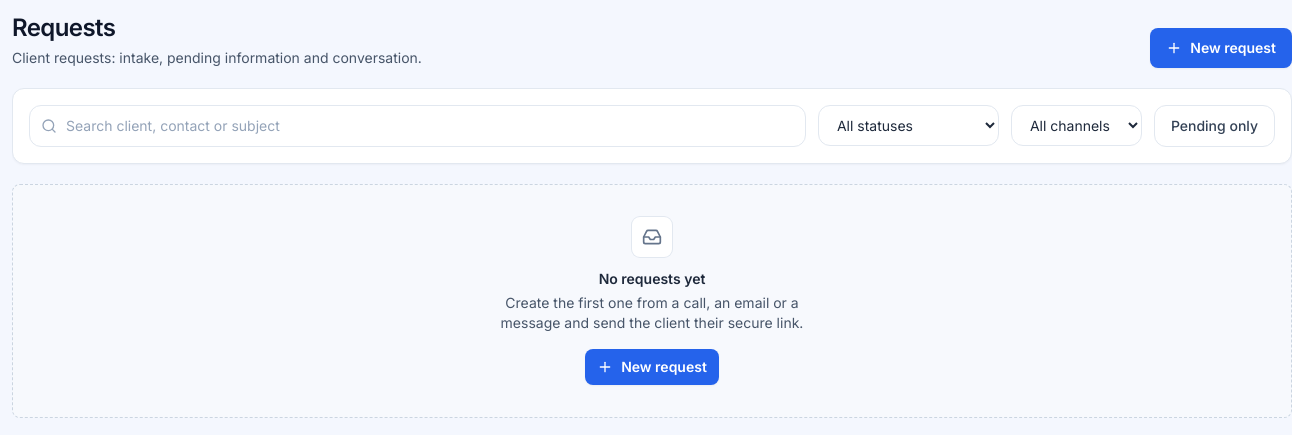
Test case: <SolicitudesInbox /> en inglés › estado vacío y vacío con filtros en inglés
The width and height of the screenshot is (1292, 435).
Expected: the text "No requests yet" is shown, [599,269,705,289]
Expected: the text "Create the first one from a call" is shown, [501,294,803,331]
Type "zzz" into the search field labelled "Search client, contact or subject".
click(417, 126); type("zzz")  # box [29,105,806,147]
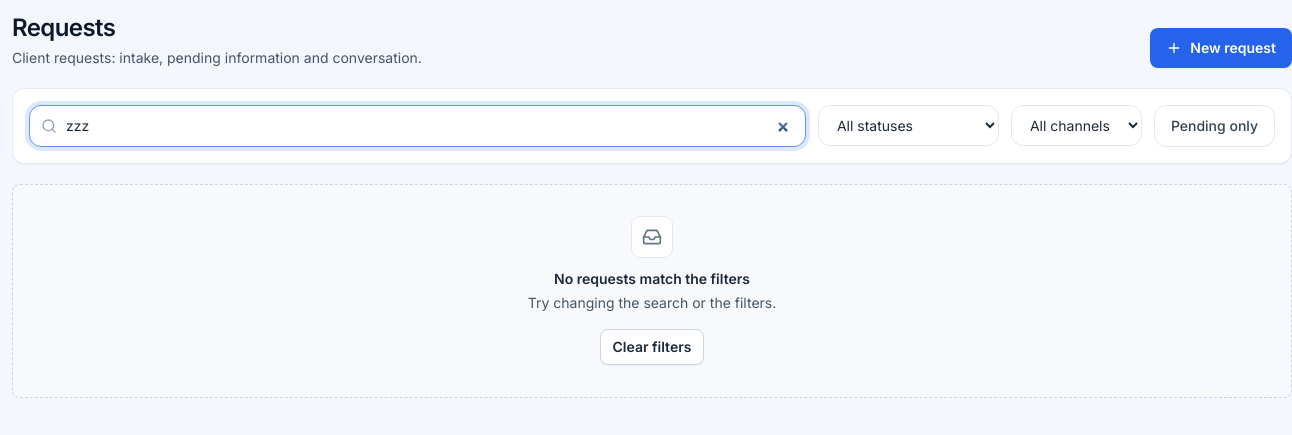
Expected: the text "No requests match the filters" is shown, [554,269,750,289]
Expected: the button "Clear filters" is shown, [600,329,704,365]
